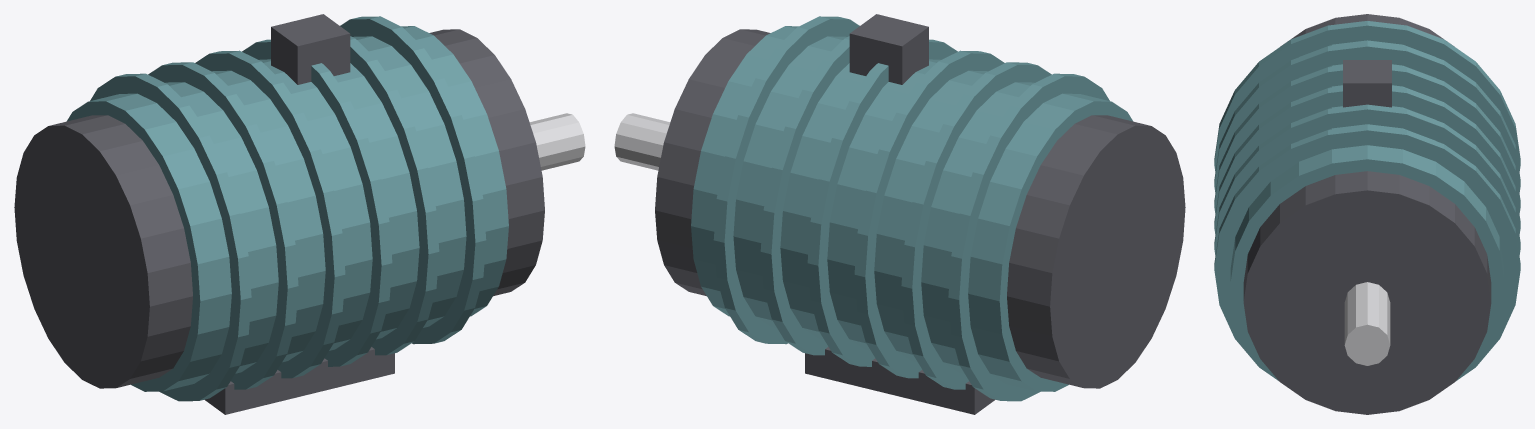
Rendered from electric_motor.glb.
The picture shows the model from 3 angles, left to right: view 1: azimuth 30°, elevation 25°; view 2: azimuth 150°, elevation 25°; view 3: azimuth 270°, elevation 25°; orthographic projection. The views are drawn at different scales.
Visible parts, largest first — view 1: ElectricMotor; view 2: ElectricMotor; view 3: ElectricMotor.
Boxes of the visible parts, left/top/right/bottom form: ElectricMotor: left=14, top=14, right=585, bottom=414; ElectricMotor: left=614, top=14, right=1185, bottom=414; ElectricMotor: left=1214, top=14, right=1520, bottom=414.
Size of the model in its own units: 1.59 by 1.03 by 0.94.
